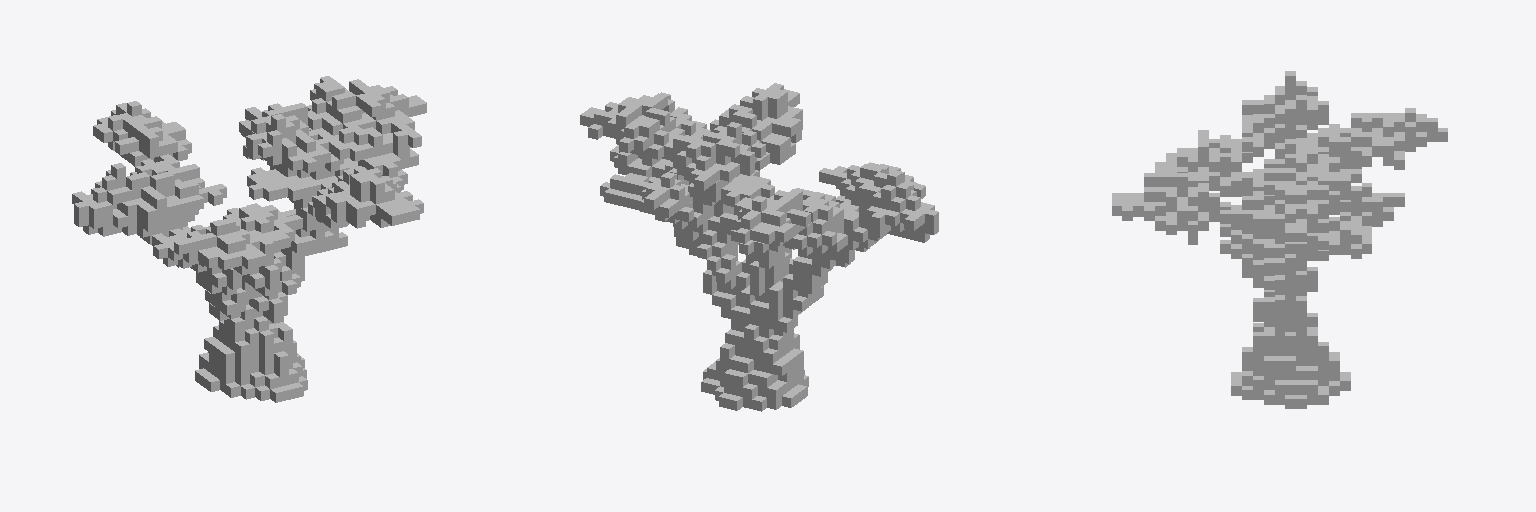
File: tree.obj
3 renders of one model, left to right at view 1: azimuth 30°, elevation 25°; view 2: azimuth 150°, elevation 25°; view 3: azimuth 270°, elevation 25°, orthographic.
Visible parts, largest first — view 1: object 1; view 2: object 1; view 3: object 1.
Boxes of the visible parts, box(x1,y1,x2,y2) form: object 1: box(72, 76, 426, 402); object 1: box(580, 83, 938, 411); object 1: box(1112, 71, 1447, 408).
Bounding box in the file's own units: 3.7 × 2.6 × 3.1.